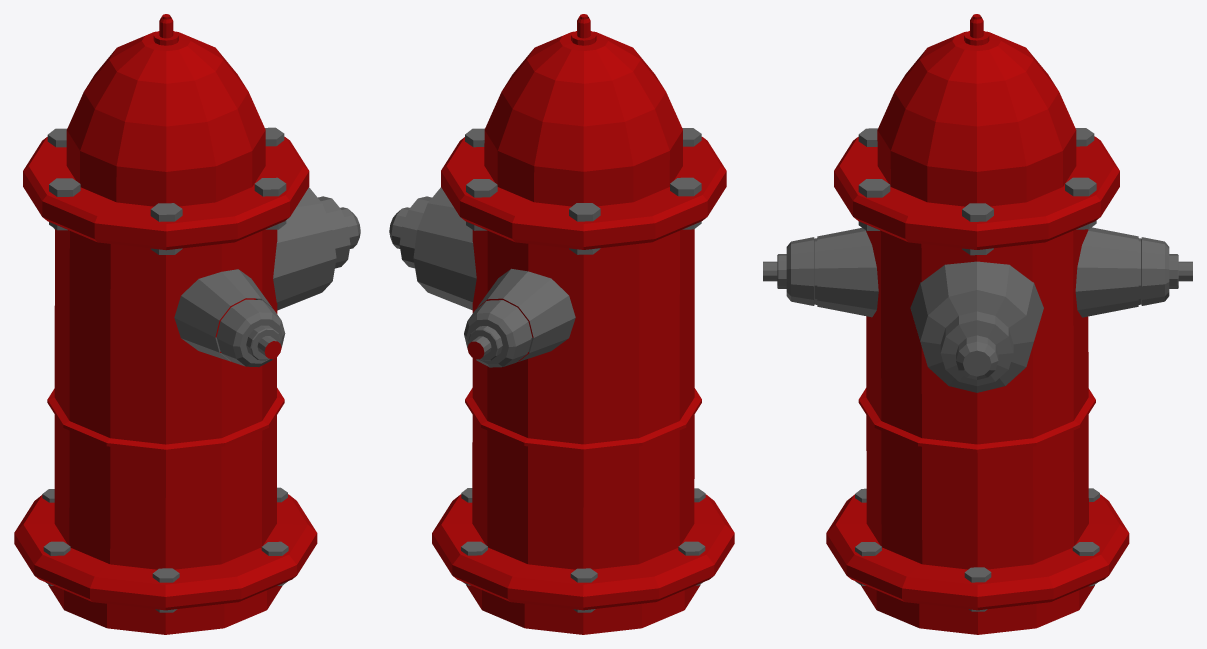
Rendered from FireHydrant.fbx.
3 renders of one model, left to right at view 1: azimuth 30°, elevation 25°; view 2: azimuth 150°, elevation 25°; view 3: azimuth 270°, elevation 25°, orthographic.
Visible parts, largest first — view 1: Circle.001; view 2: Circle.001; view 3: Circle.001.
Part boxes in pixels (x1,y1,x2,y2): Circle.001: (14, 14, 360, 634); Circle.001: (389, 14, 734, 634); Circle.001: (763, 14, 1192, 634).
Bounding box in the file's own units: 314 × 537 × 367.
